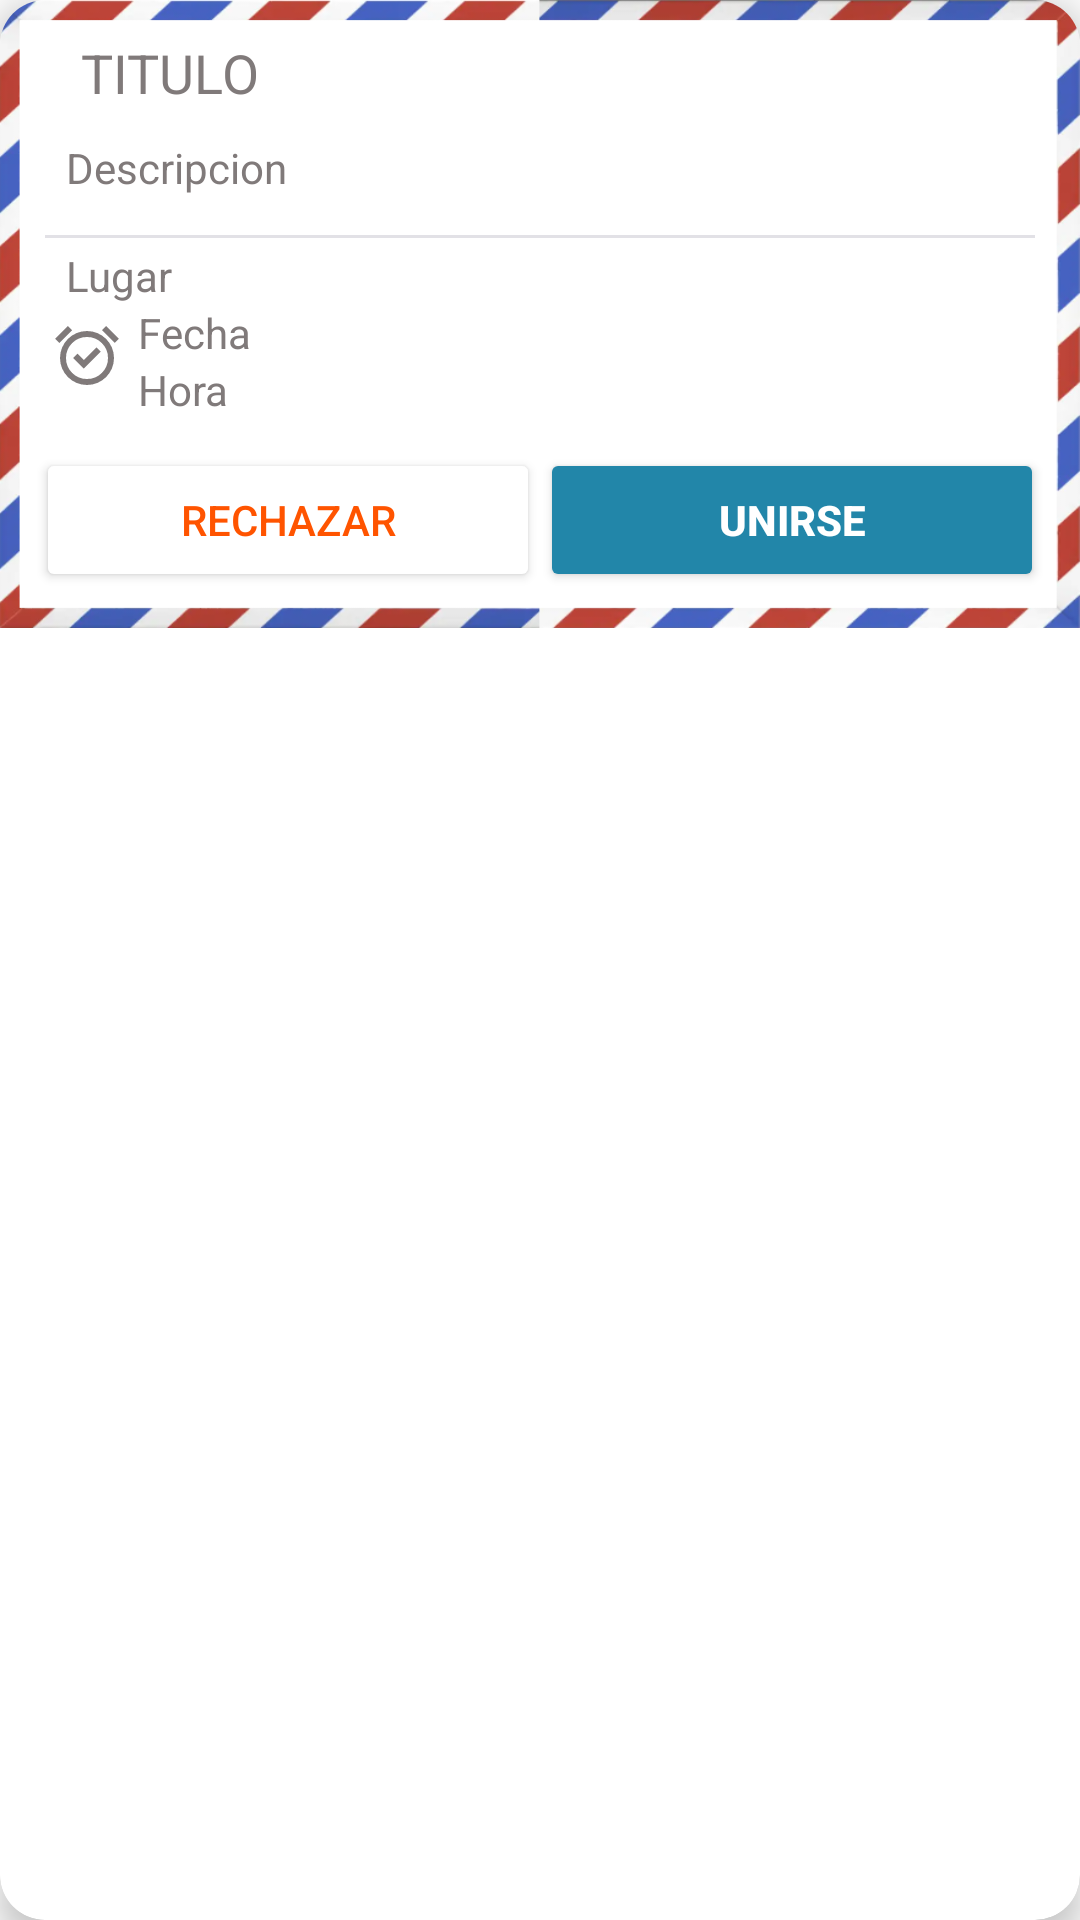

Icons on this 1080 x 1920 Android screen, each with its box as (x1, y1, x2, y2):
time: (55, 326, 119, 385)
